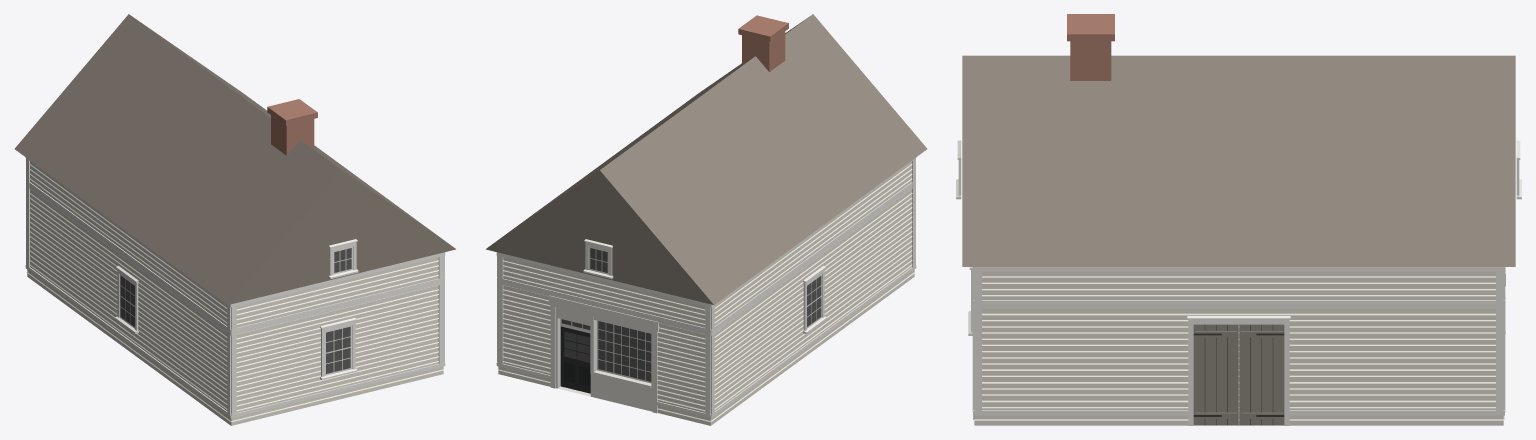
Rendered from recon_1835_blk_randolph_clark_c2_01__inferred_1835.glb.
3 views of the same model, side by side, from view 1: azimuth 30°, elevation 25°; view 2: azimuth 150°, elevation 25°; view 3: azimuth 270°, elevation 25° (orthographic). The views are drawn at different scales.
Visible parts, largest first — view 1: recon_1835_blk_randolph_clark_c2_01__inferred_1835; view 2: recon_1835_blk_randolph_clark_c2_01__inferred_1835; view 3: recon_1835_blk_randolph_clark_c2_01__inferred_1835.
Boxes of the visible parts, x1=… form: recon_1835_blk_randolph_clark_c2_01__inferred_1835: x1=14, y1=14, x2=455, y2=425; recon_1835_blk_randolph_clark_c2_01__inferred_1835: x1=486, y1=14, x2=927, y2=425; recon_1835_blk_randolph_clark_c2_01__inferred_1835: x1=956, y1=14, x2=1521, y2=425.
Bounding box in the file's own units: 7 × 7.53 × 11.56.
